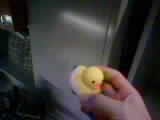duck: (68, 53, 98, 93)
